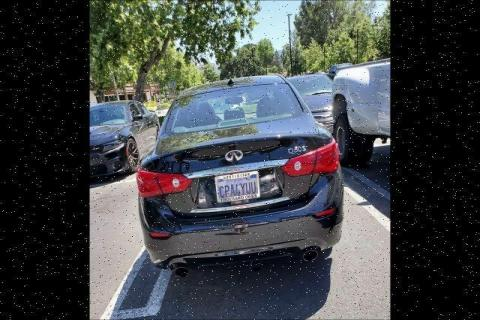LicensePlate: (216, 176, 260, 203)
